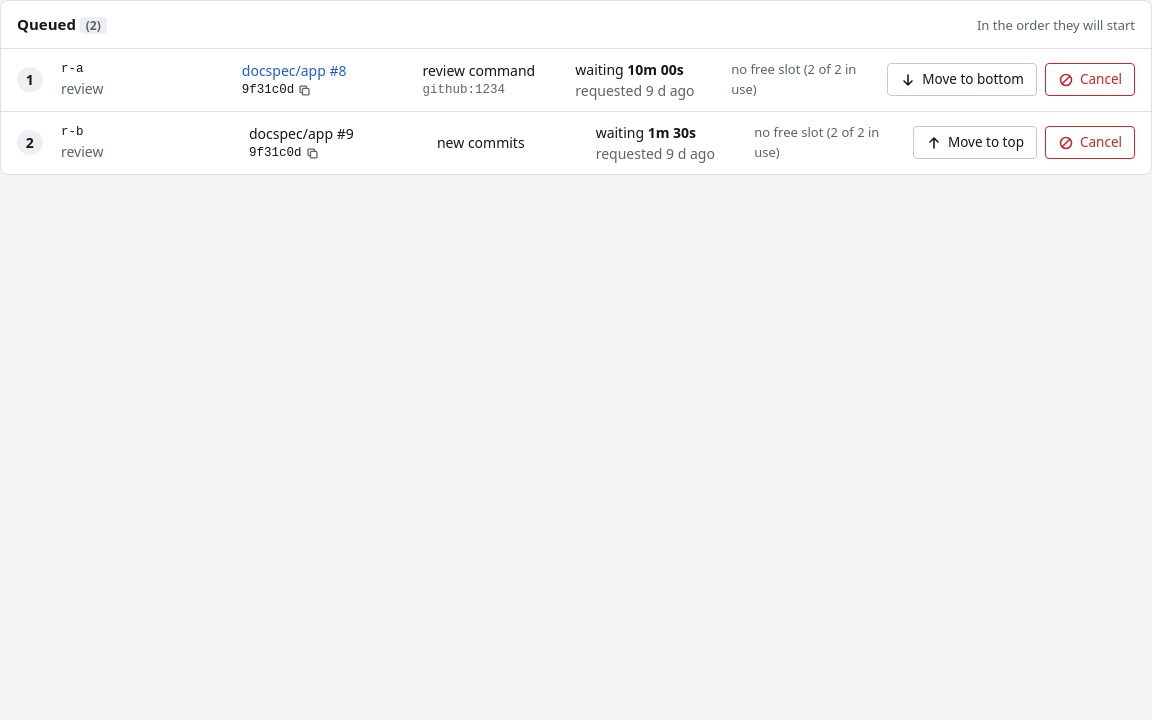
Scenario: Queued › asks before it cancels, cancels once, and says what happened
The width and height of the screenshot is (1152, 720).
Click the button with class "danger" in the row of "r-b" at x=1090, y=143, box [1045,126,1135,159]
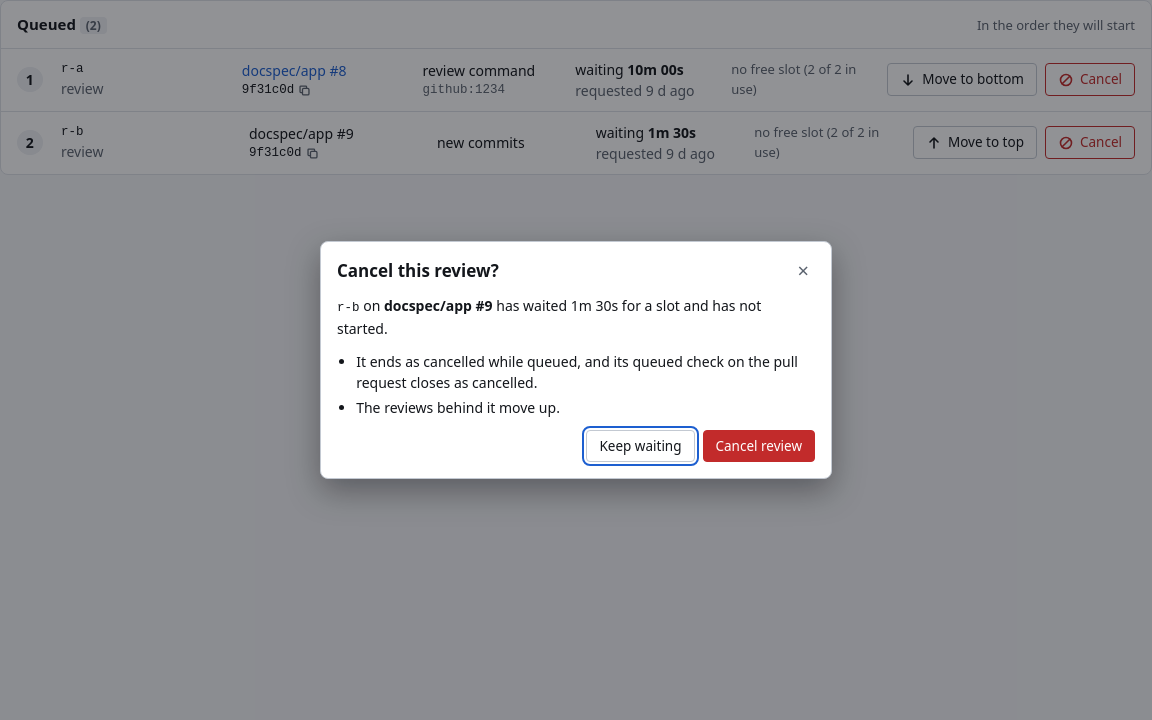
Result: the dialog shows "r-b on docspec/app #9 has waited 1m 30s" at [320,241,832,479]
Click the button "Keep waiting" at x=640, y=446, box [586,430,694,462]
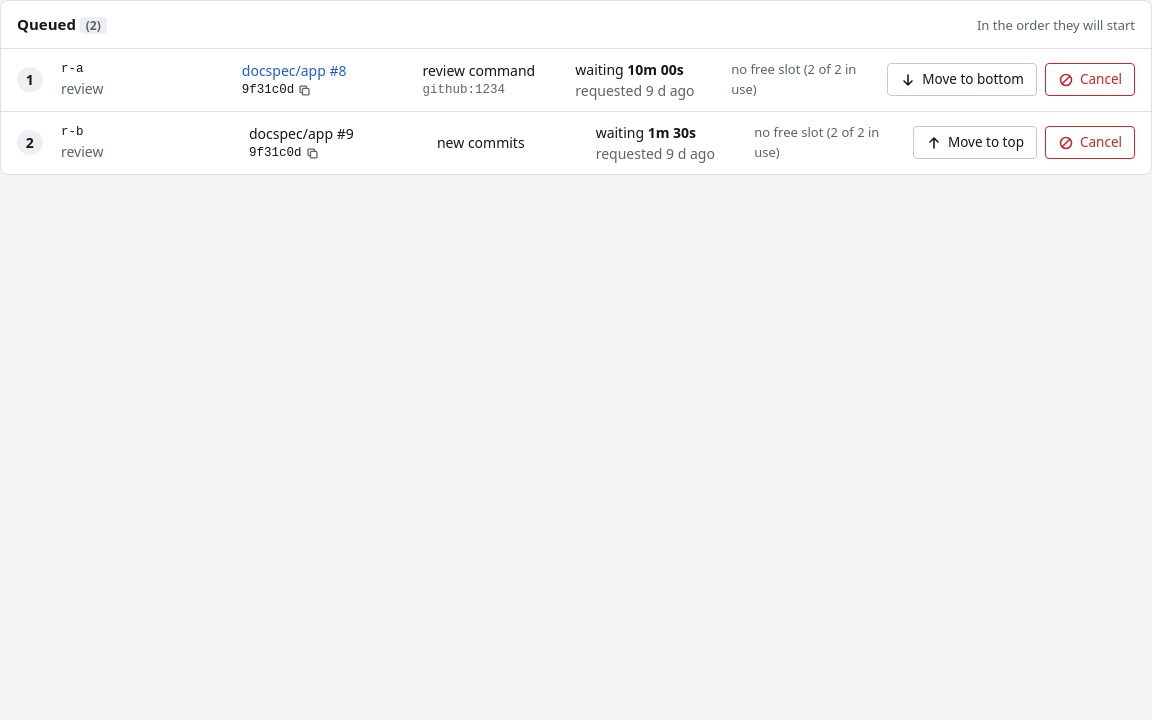
Click the button with class "danger" in the row of "r-b" at x=1090, y=143, box [1045,126,1135,159]
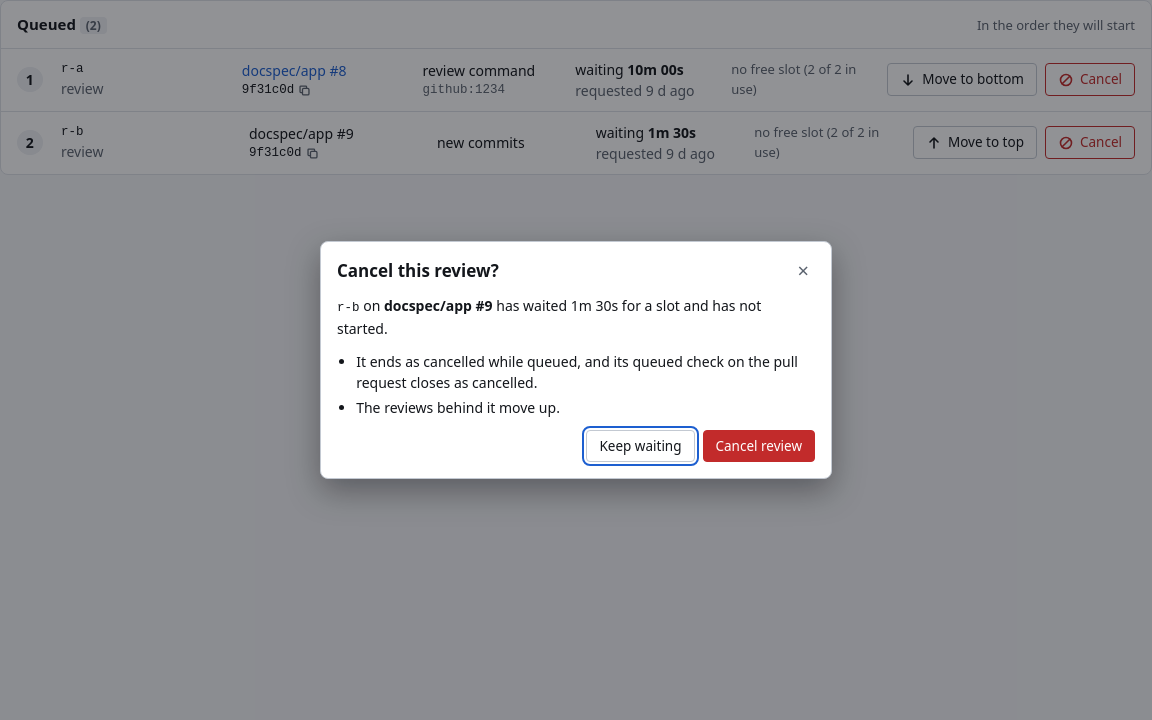
Click the button "Cancel review" at x=759, y=446, box [702,430,815,462]
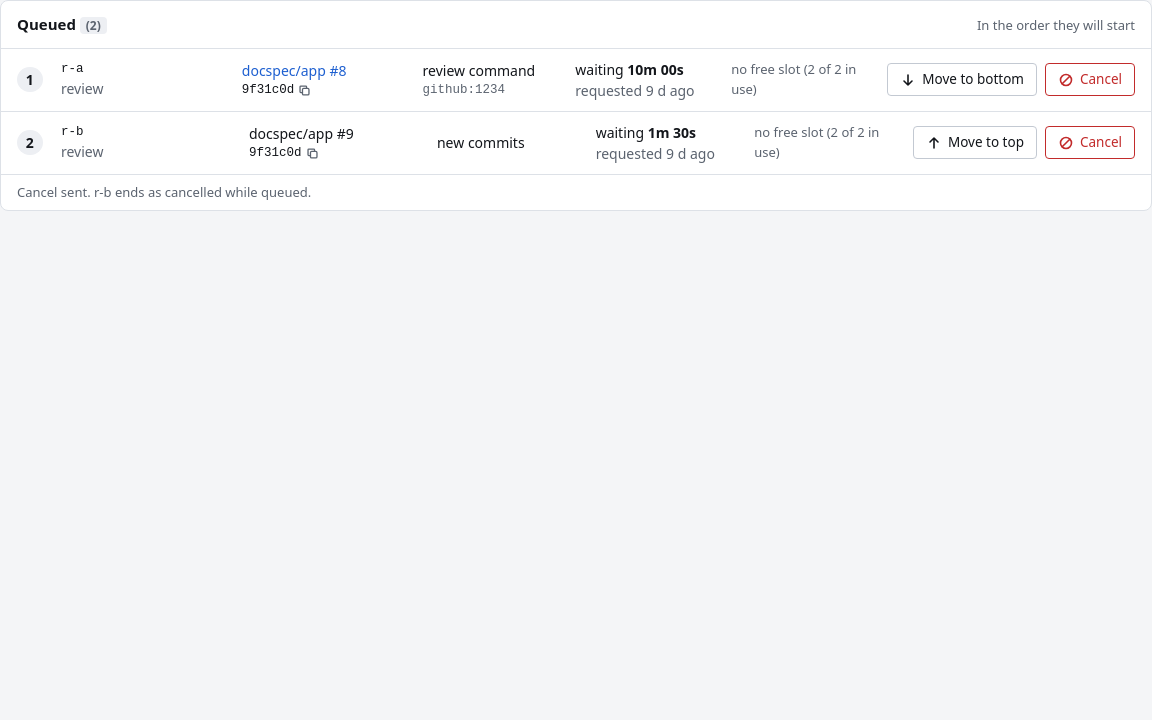
Result: the message "Cancel sent. r-b ends as cancelled while queued." is shown at [17,182,311,202]
